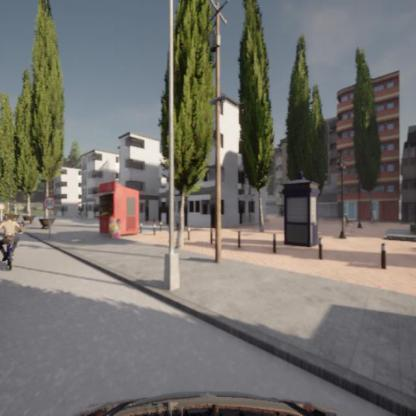bike: (0, 216, 24, 268)
traffic_sign_60: (43, 196, 56, 210)
